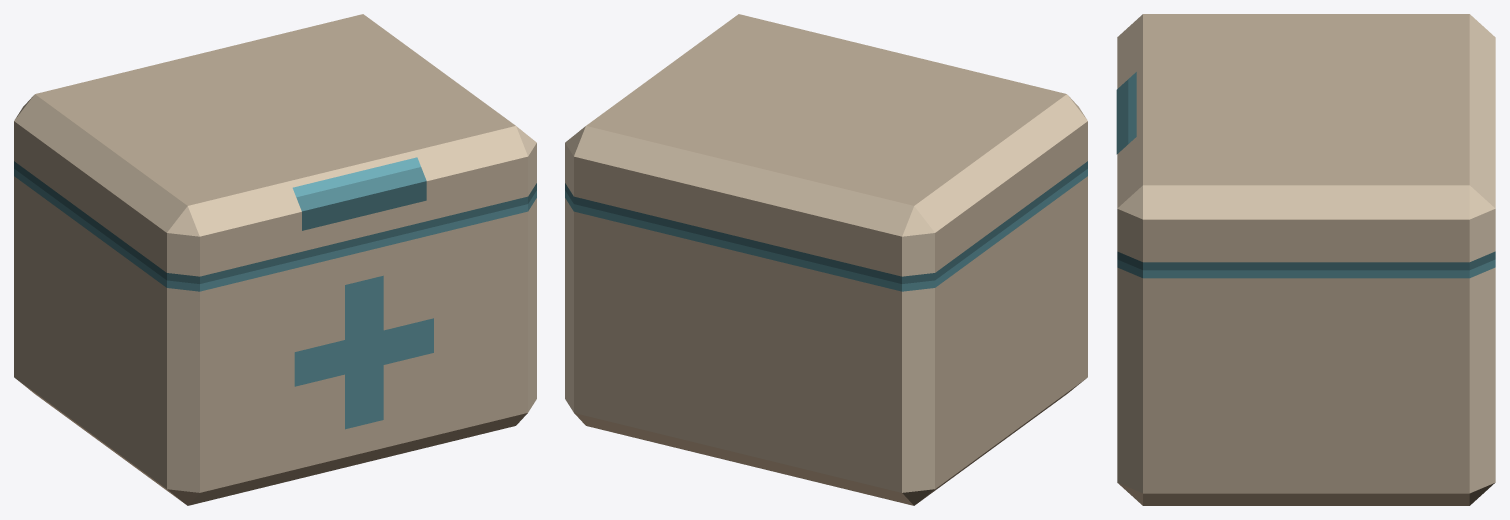
Rendered from FirstAidKit_Small.fbx.
3 views of the same model, side by side, from view 1: azimuth 30°, elevation 25°; view 2: azimuth 150°, elevation 25°; view 3: azimuth 270°, elevation 25° (orthographic). The views are drawn at different scales.
Visible parts, largest first — view 1: FirstAidKit_Small, FirstAidKit_Small_Lid; view 2: FirstAidKit_Small, FirstAidKit_Small_Lid; view 3: FirstAidKit_Small_Lid, FirstAidKit_Small.
Boxes of the visible parts, x1=… form: FirstAidKit_Small: x1=14, y1=176, x2=536, y2=505; FirstAidKit_Small_Lid: x1=14, y1=14, x2=536, y2=291; FirstAidKit_Small: x1=565, y1=176, x2=1087, y2=505; FirstAidKit_Small_Lid: x1=565, y1=14, x2=1087, y2=291; FirstAidKit_Small_Lid: x1=1116, y1=14, x2=1495, y2=278; FirstAidKit_Small: x1=1117, y1=267, x2=1495, y2=505.
Size of the model in its own units: 0.6437 by 0.4986 by 0.5342.
